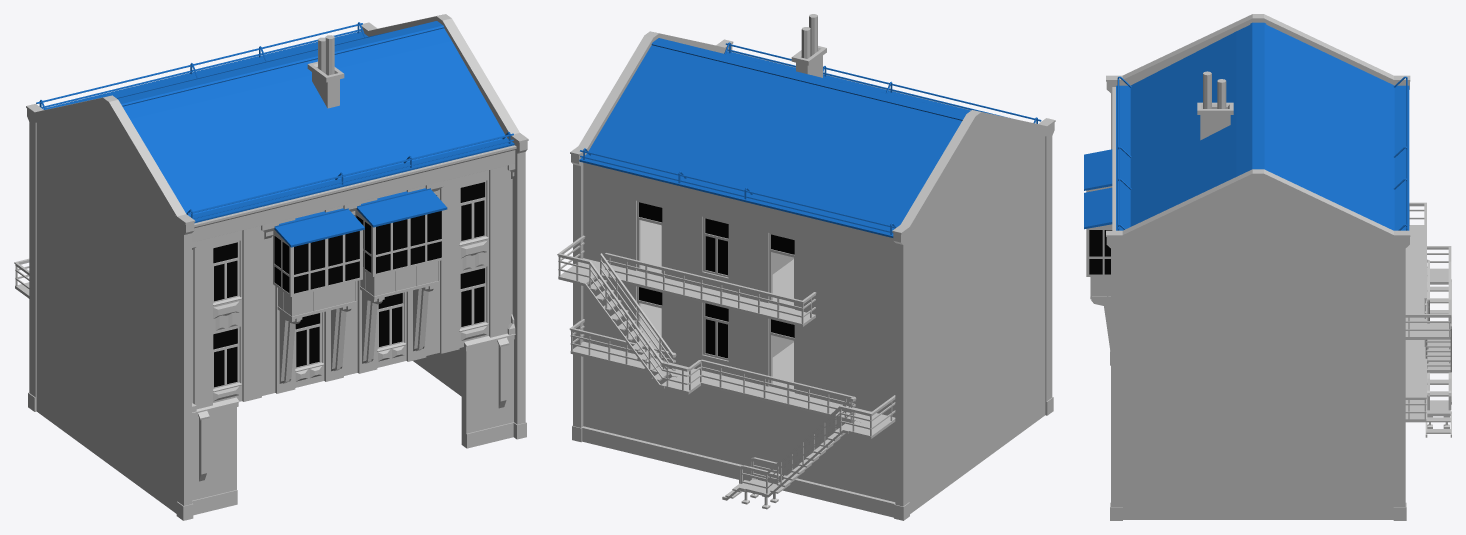
File: SM_fourth_house.fbx
The picture shows the model from 3 angles, left to right: view 1: azimuth 30°, elevation 25°; view 2: azimuth 150°, elevation 25°; view 3: azimuth 270°, elevation 25°; orthographic projection. The views are drawn at different scales.
Visible parts, largest first — view 1: Cylinder_34; view 2: Cylinder_34; view 3: Cylinder_34.
Boxes of the visible parts, x1,y1,x2,y2 form: Cylinder_34: (14,14,528,520); Cylinder_34: (557,14,1055,520); Cylinder_34: (1084,14,1451,520).
Size of the model in its own units: 1253 by 1390 by 1219.
